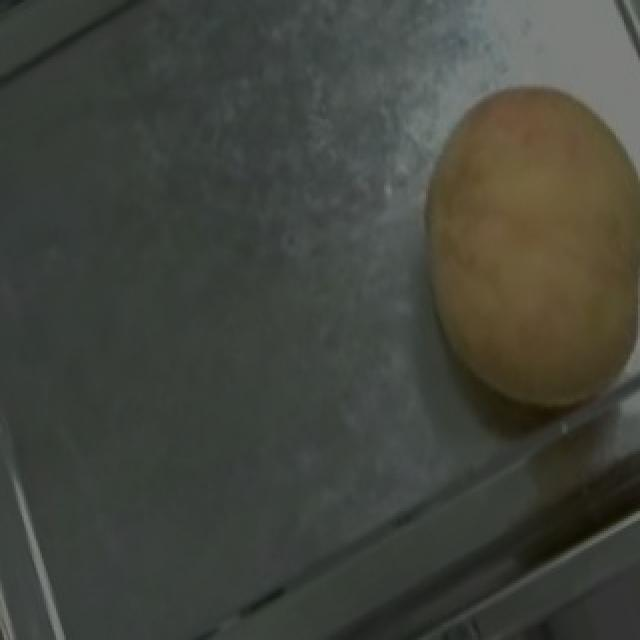Fruit: (372, 50, 640, 444)
